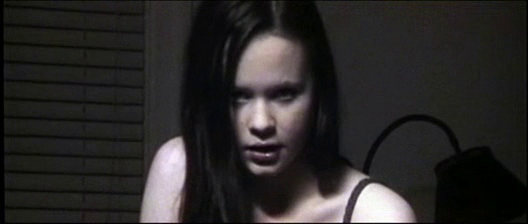cu: (1, 1, 528, 224)
face: (223, 60, 307, 180)
person: (140, 1, 417, 222)
